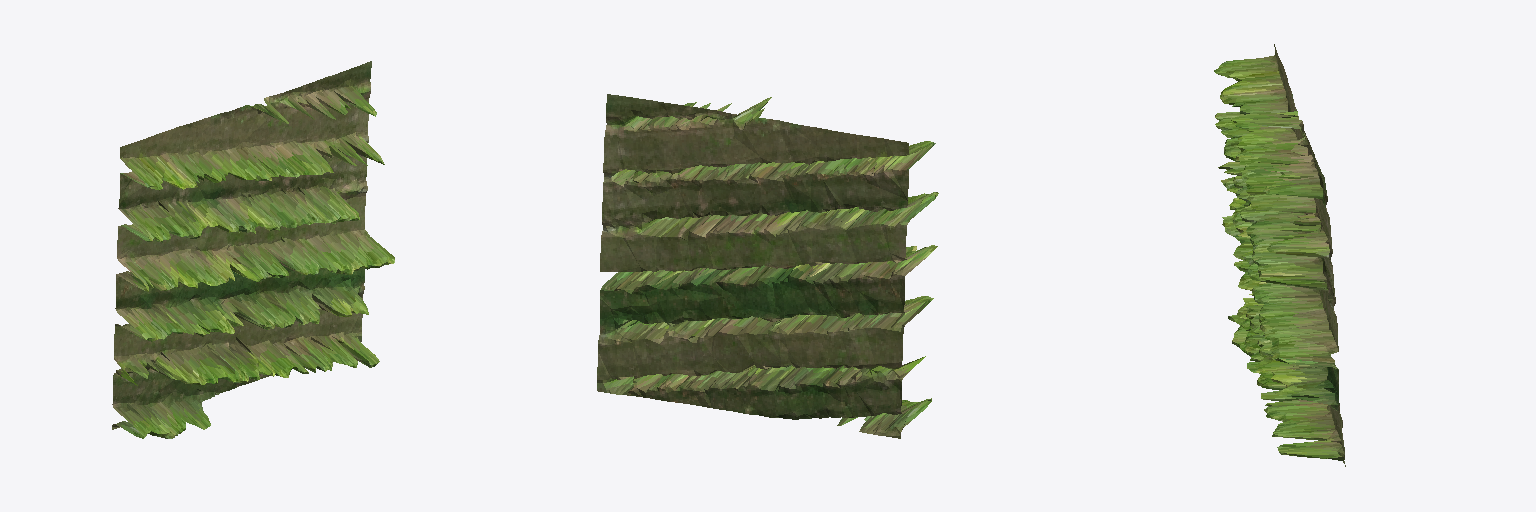
3 views of the same model, side by side, from view 1: azimuth 30°, elevation 25°; view 2: azimuth 150°, elevation 25°; view 3: azimuth 270°, elevation 25° (orthographic).
Visible parts, largest first — view 1: grp1; view 2: grp1; view 3: grp1.
Part boxes in pixels (x1,y1,x2,y2): grp1: (112,61,394,438); grp1: (597,94,938,438); grp1: (1214,44,1345,466).
Size of the model in its own units: 10 by 10 by 4.14.
Materials: 1 (1 with a texture image).